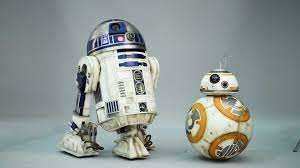r2d2: (58, 18, 160, 160)
